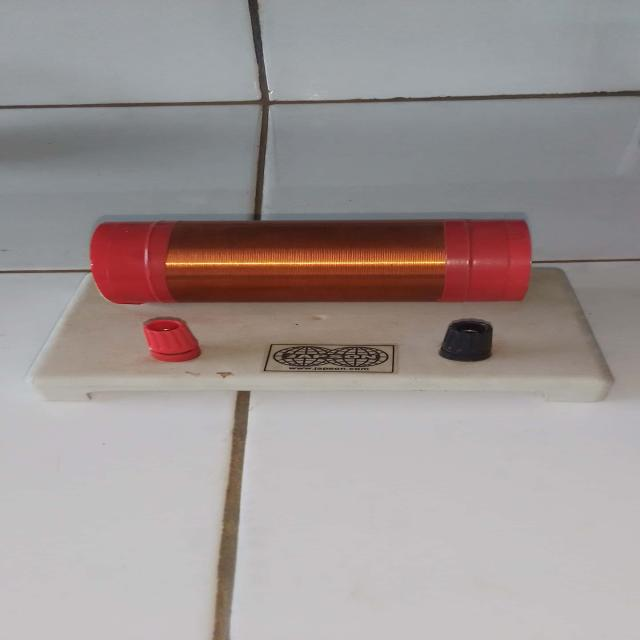Solenoid: (42, 213, 640, 420)
